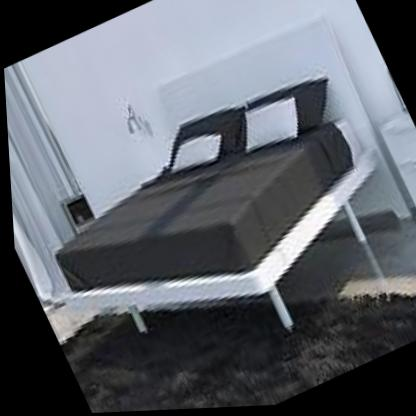Bed: (50, 21, 391, 339)
